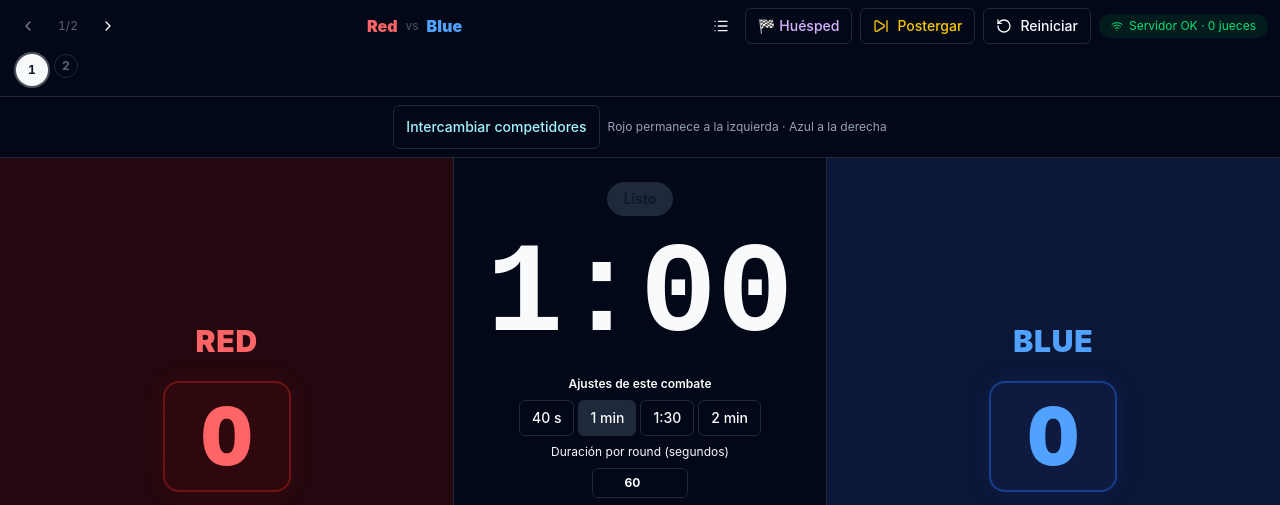
Test case: safe postpone button › retains queue and displays rejection
Click the button "Postergar" at (918, 26), box [860,8,975,44]
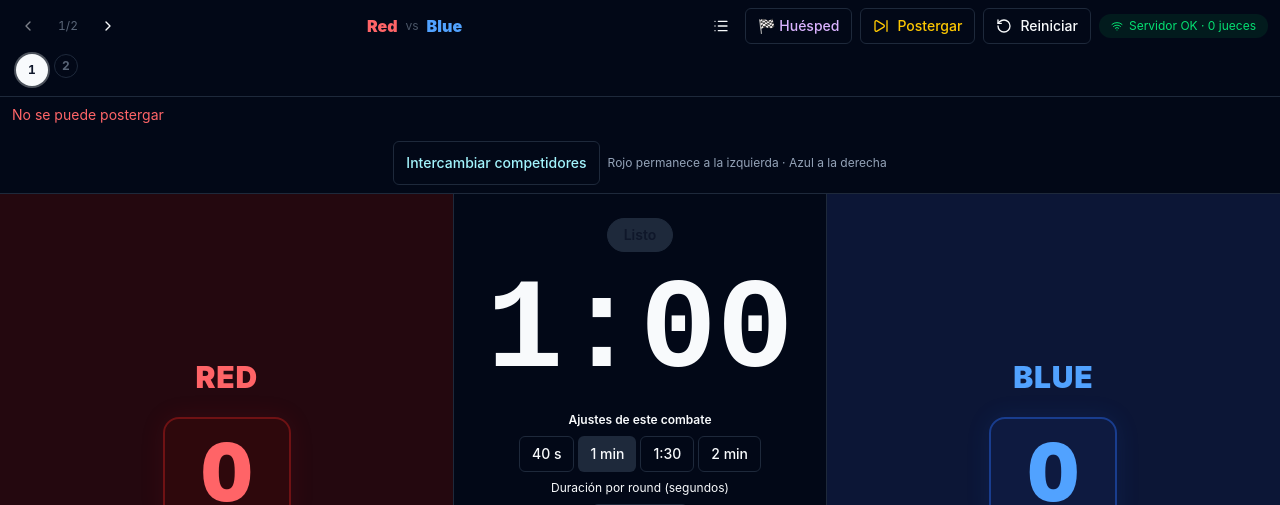
expect the message reads "No se puede postergar": met, box [12,106,164,123]
